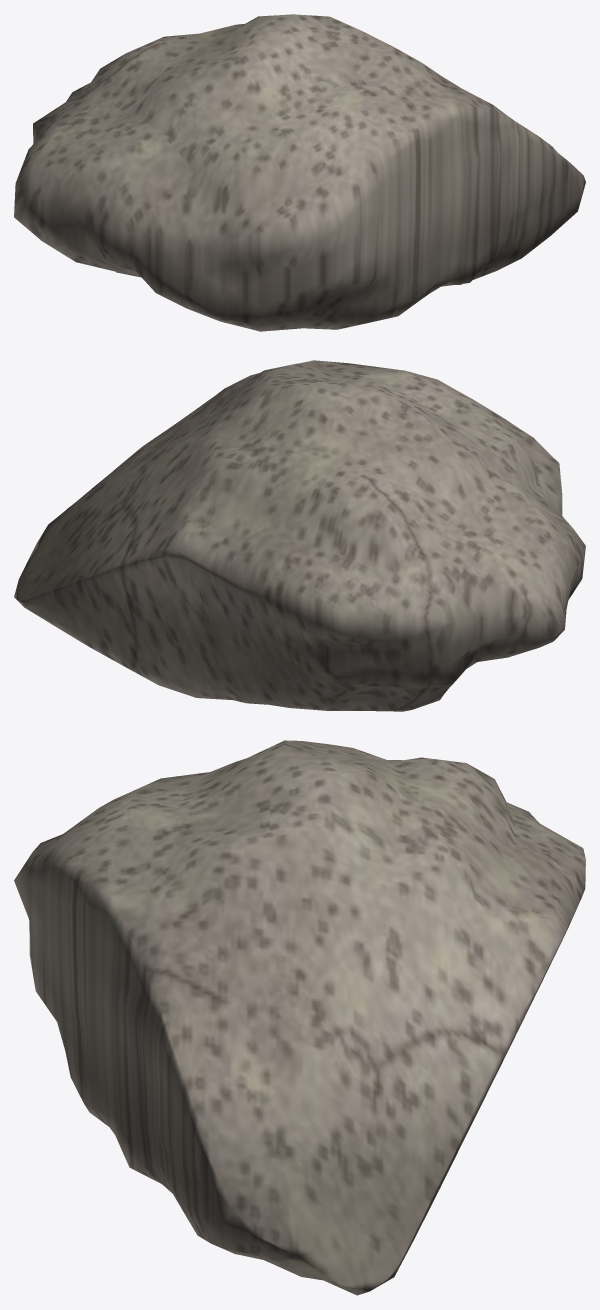
The model's file is rock-granite-1.lite.glb.
The picture shows the model from 3 angles, top to bottom: view 1: azimuth 30°, elevation 25°; view 2: azimuth 150°, elevation 25°; view 3: azimuth 270°, elevation 25°; orthographic projection. The views are drawn at different scales.
Parts seen in each view (by area): view 1: model; view 2: model; view 3: model.
Part boxes in pixels (left/top/right/bottom): model: left=14, top=14, right=585, bottom=331; model: left=14, top=360, right=585, bottom=711; model: left=14, top=740, right=585, bottom=1295.
Bounding box in the file's own units: 1 × 0.5331 × 0.6906.
1 material, 1 textured.
